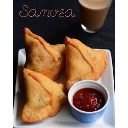samosa: (22, 65, 67, 122), (24, 26, 64, 78), (65, 35, 107, 83)
